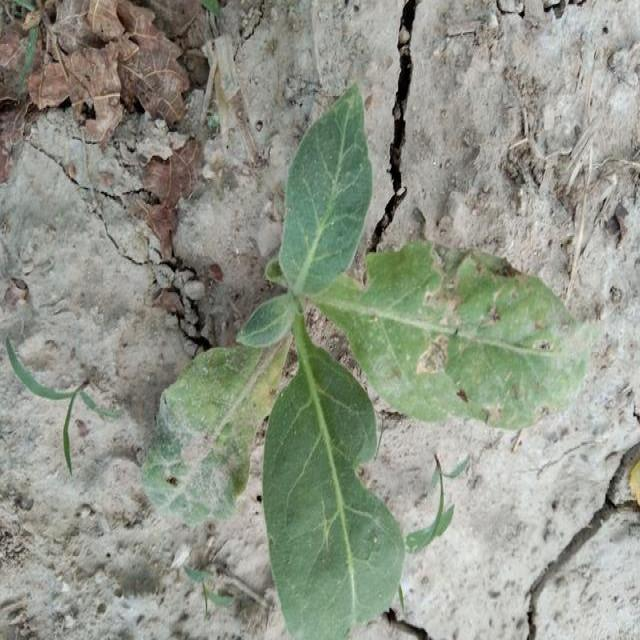crop: (148, 99, 564, 635)
